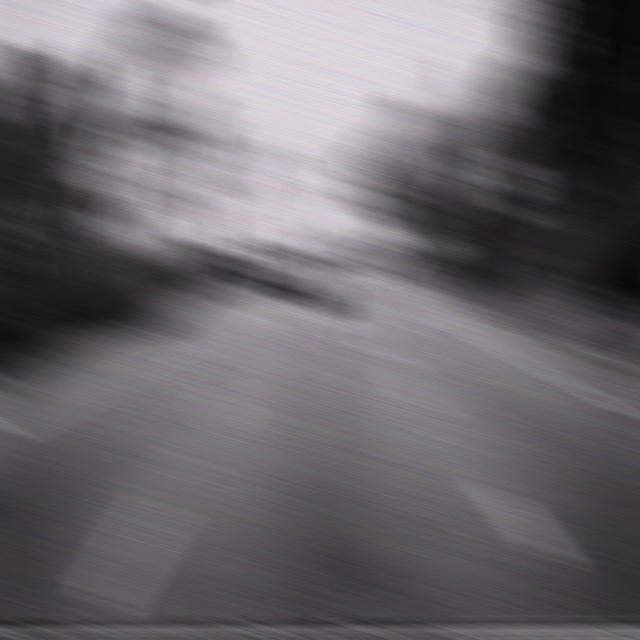pedestrianCrossing: (432, 146, 482, 206)
